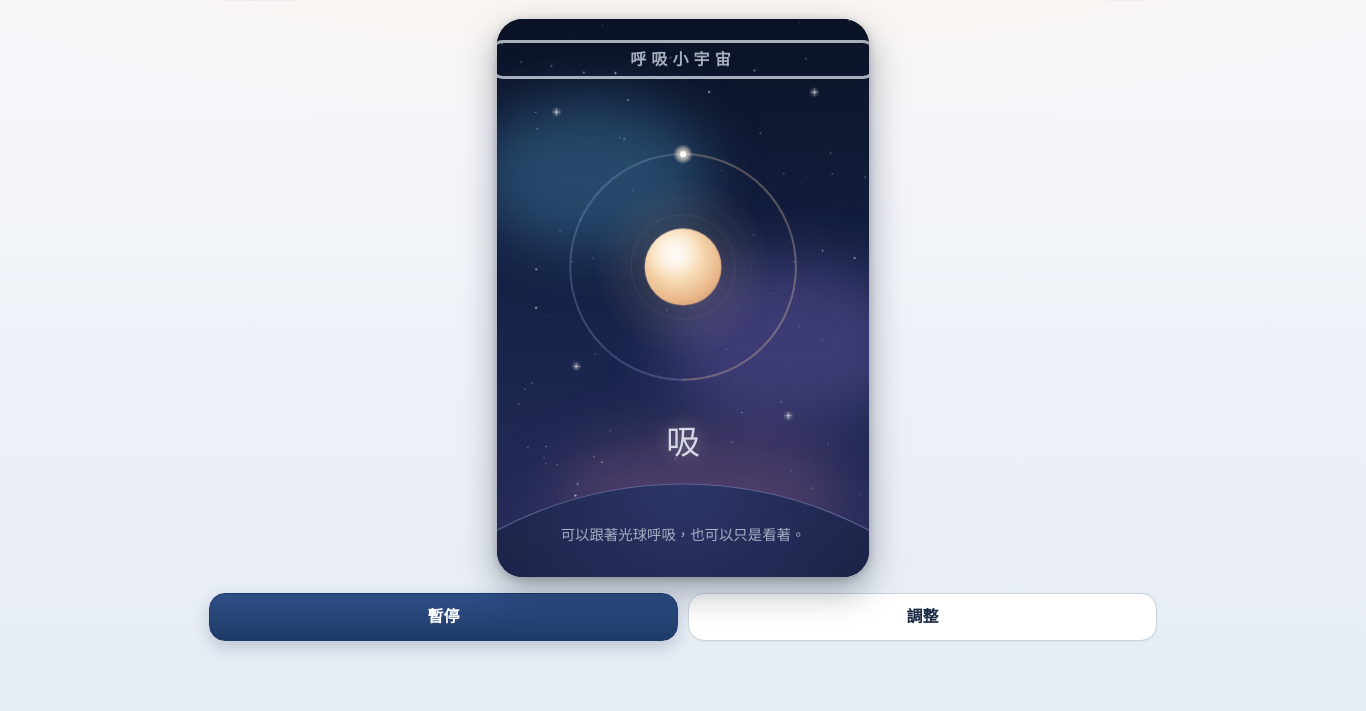
Test: 呼吸小宇宙 › 暫停時光球停住；背景回來維持暫停，需手動繼續
Click the button "暫停": (444, 617) [209,593,678,641]
(page scrolled)
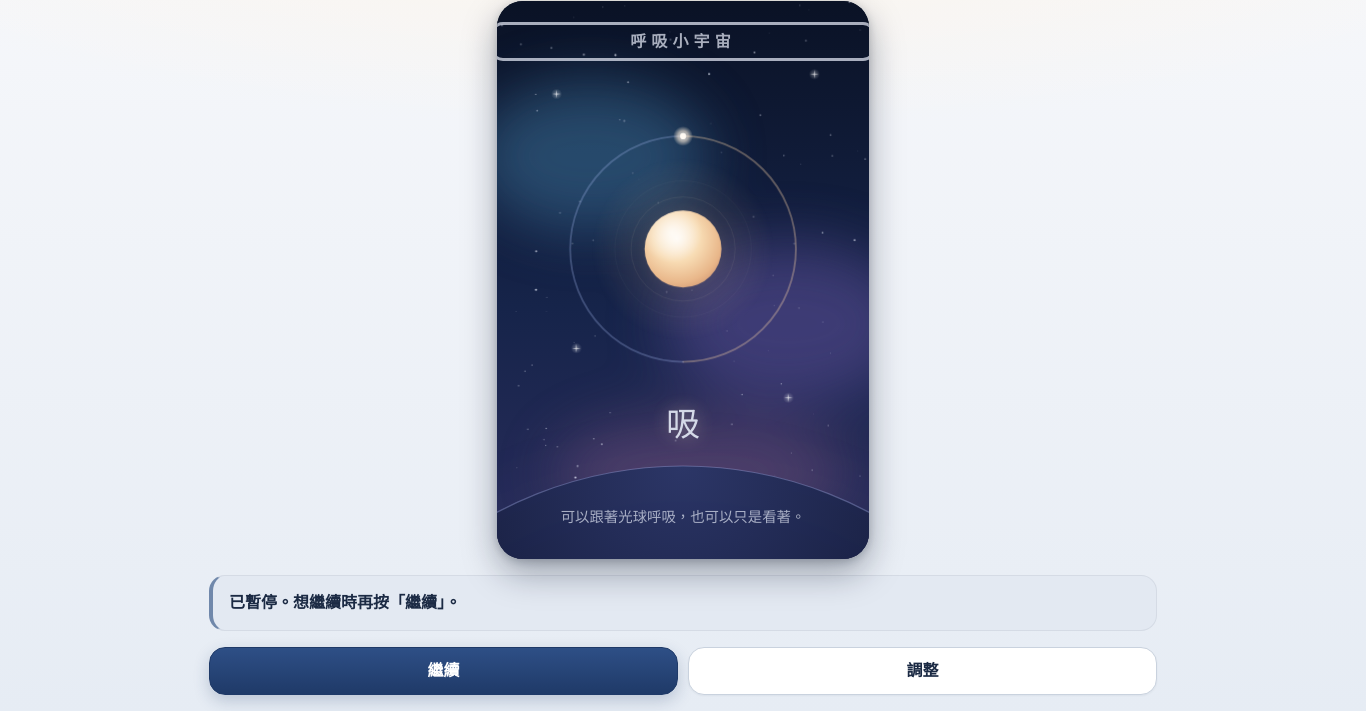
Expected: the text "吸" is shown, [666,400,720,446]
Click the button "繼續": (444, 671) [209,647,678,695]
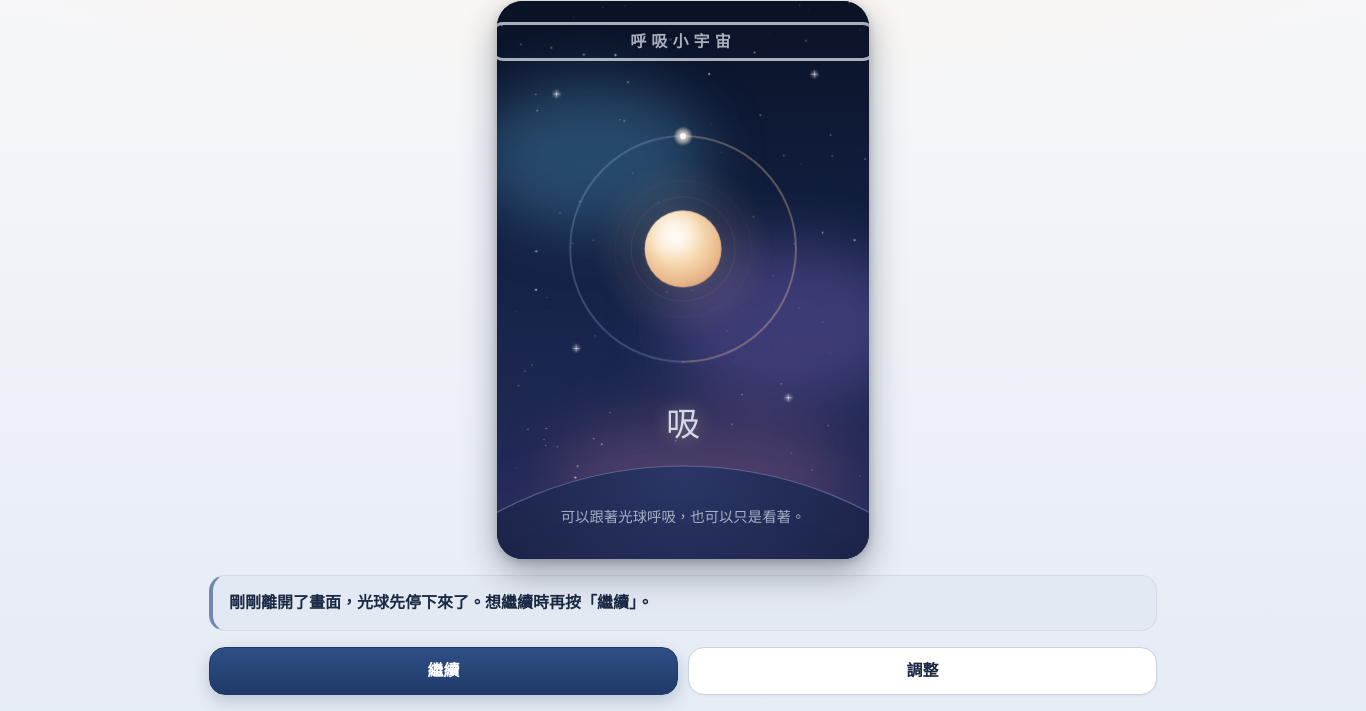
Expected: the button "繼續" is shown, [209,647,678,695]
Expected: the text "剛剛離開了畫面，光球先停下來了。想繼續時再按「繼續」。" is shown, [209,575,1157,631]
